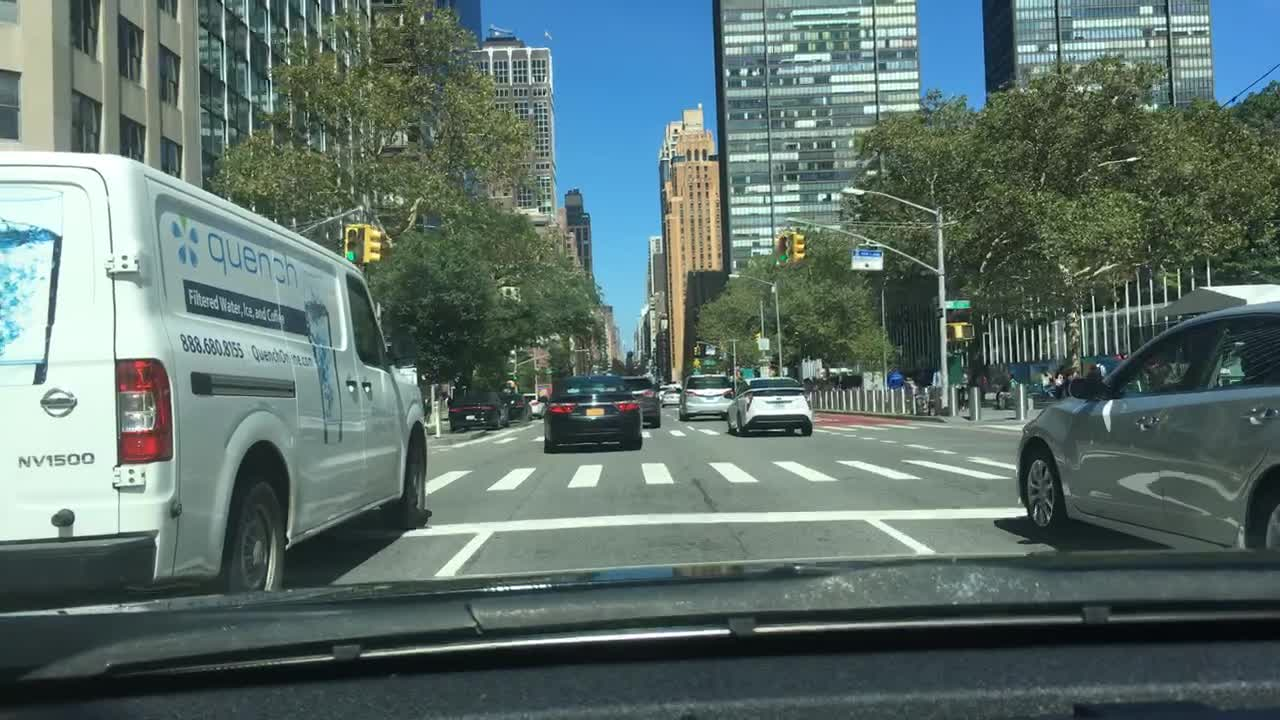car: (0, 151, 431, 599), (1012, 299, 1279, 553), (544, 378, 643, 451), (728, 377, 818, 436), (677, 372, 736, 423), (449, 387, 510, 434), (622, 373, 663, 428), (995, 376, 1050, 411), (499, 388, 532, 424), (523, 391, 549, 419), (657, 381, 682, 407)
person: (975, 370, 989, 419), (1090, 353, 1106, 385), (957, 369, 969, 409), (933, 368, 943, 412), (1039, 366, 1051, 396), (1053, 364, 1062, 397), (1063, 362, 1078, 380)
traffic light: (361, 221, 381, 265), (943, 319, 975, 337), (346, 224, 359, 263), (793, 230, 806, 263), (778, 234, 790, 263), (956, 322, 974, 339), (690, 342, 702, 357), (690, 357, 701, 369), (752, 330, 762, 343)
traffic sign: (851, 248, 882, 272), (945, 300, 970, 311), (759, 334, 771, 350), (760, 366, 771, 378), (705, 342, 716, 354)
